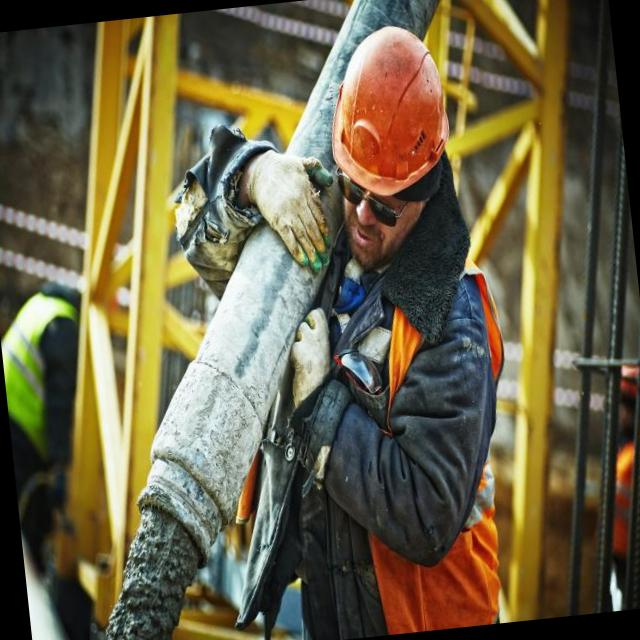Gloves: (230, 151, 340, 264), (282, 308, 342, 398)
Helmet: (318, 17, 458, 197)
Vest: (340, 252, 544, 636)
